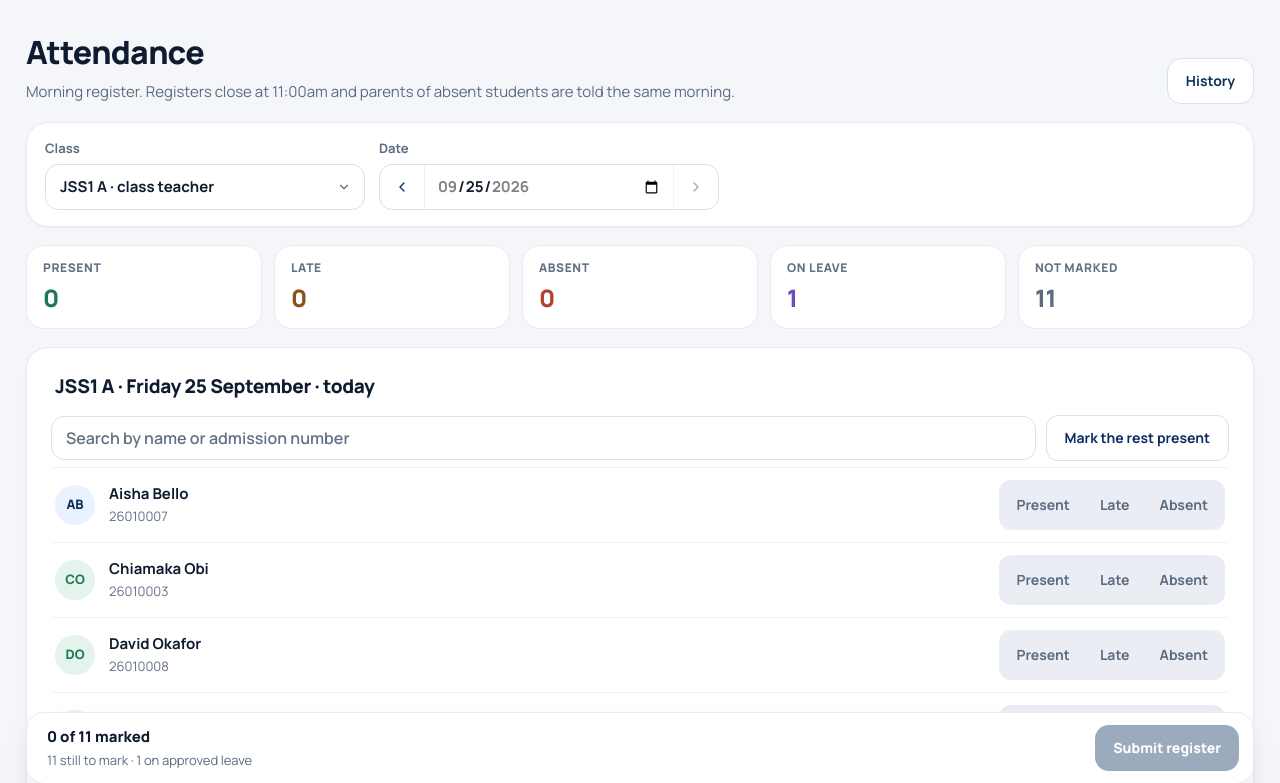
Test case: Attendance, JSS1 A this morning › filters by name or admission number
This screenshot has width=1280, height=783.
Expected: the heading "JSS1 A · Friday 25 September · today" is shown, left=55, top=373, right=375, bottom=399
Type "26010003" into the search field named "Search the register by name or admission number" at (543, 438), box left=51, top=416, right=1036, bottom=460
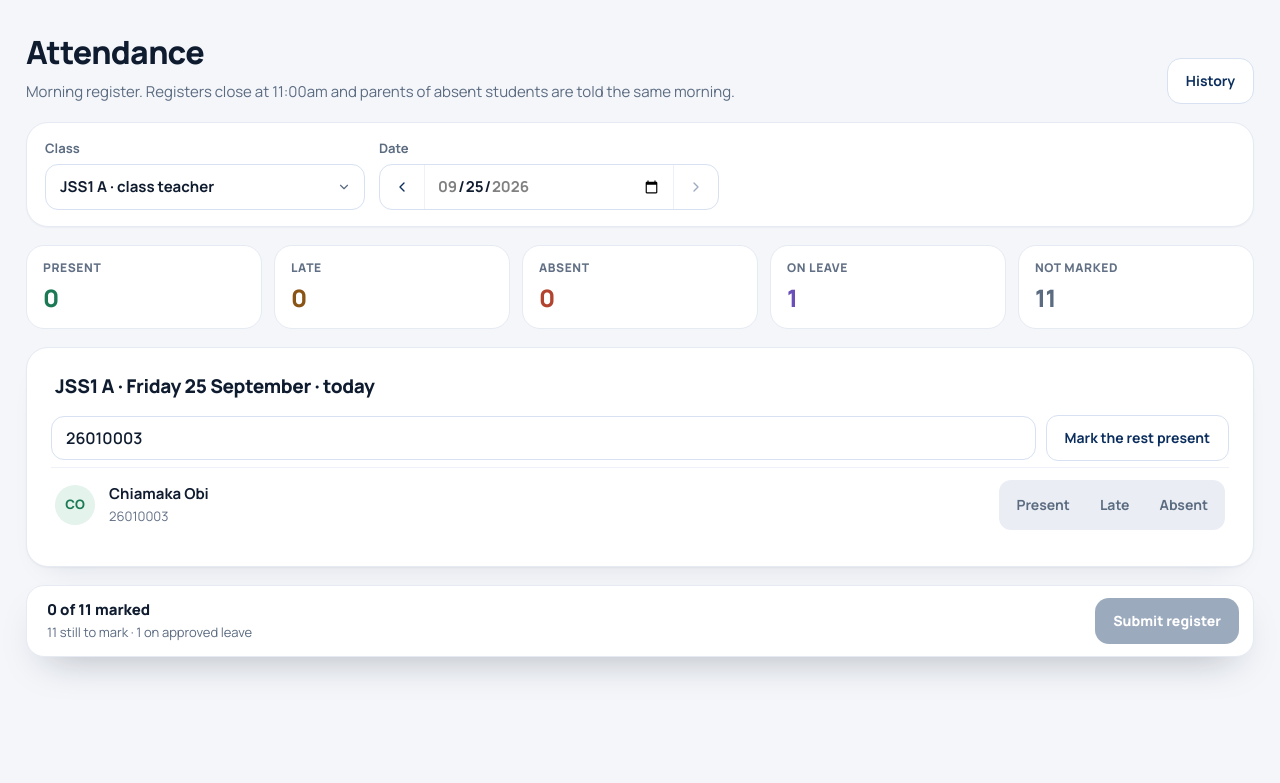
Expected: the text "Chiamaka Obi" is shown, left=109, top=482, right=209, bottom=504
Replace the text in the search field named "Search the register by name or admission number" with "nobody" at (543, 438), box left=51, top=416, right=1036, bottom=460
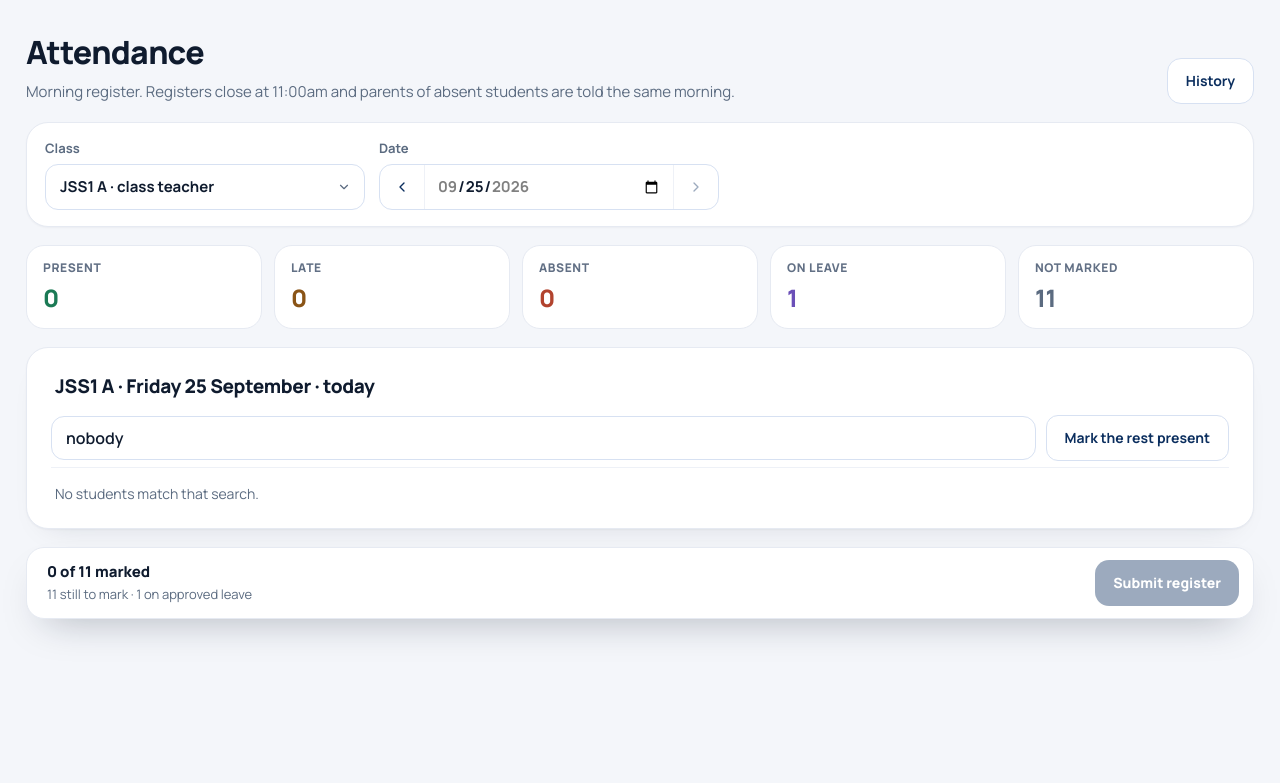
Expected: the text "No students match that search." is shown, left=51, top=466, right=1229, bottom=504
